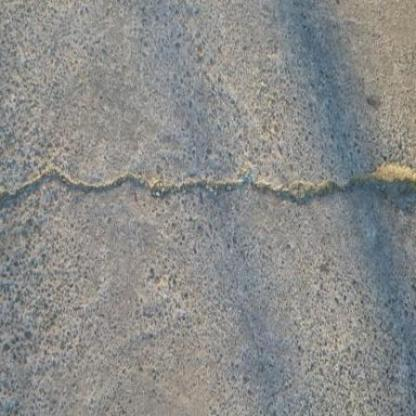Cracks: (3, 135, 416, 250)
